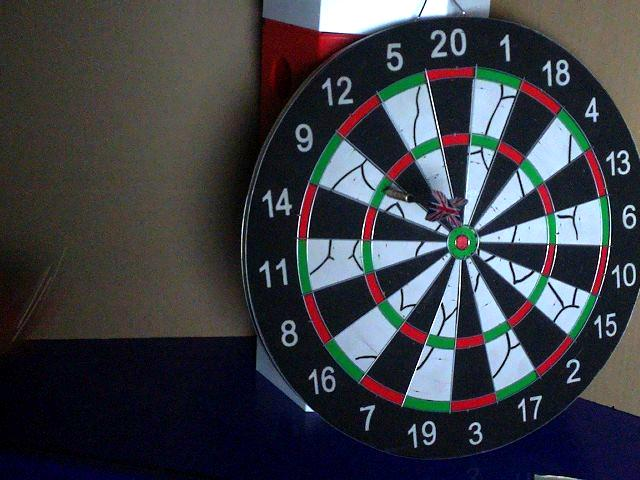triple_9: (370, 177, 391, 210)
